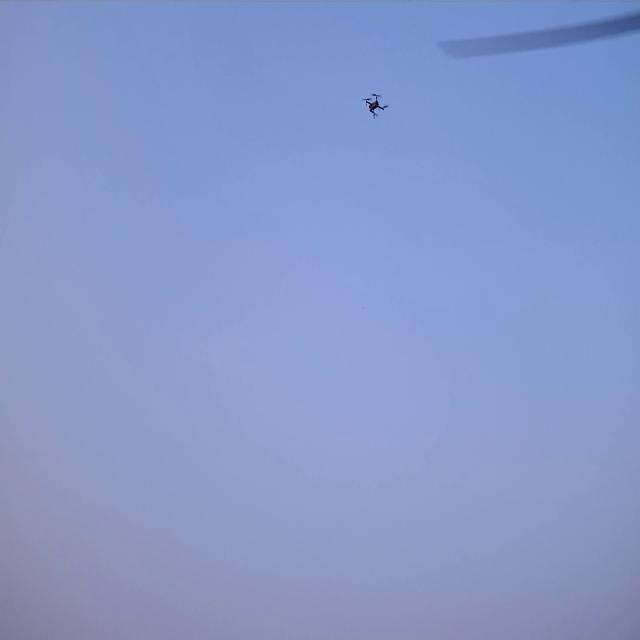UAV: (366, 94, 386, 118)
